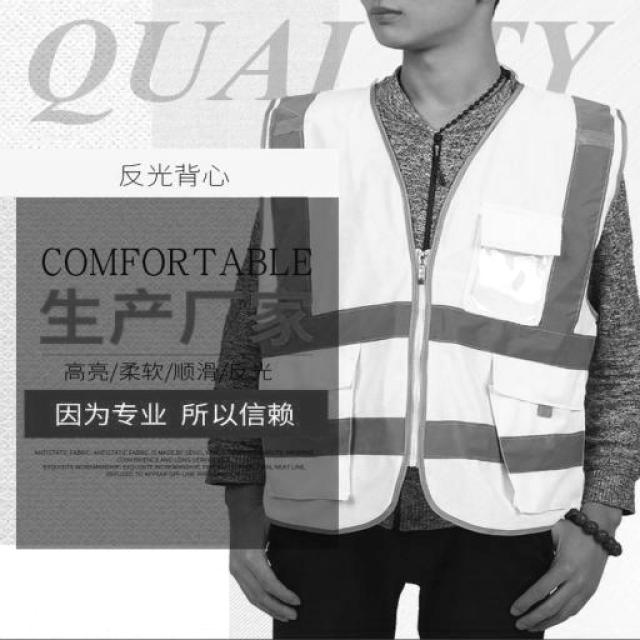hand_noglove: (216, 473, 306, 626), (503, 501, 609, 629)
vest: (229, 73, 623, 536)
